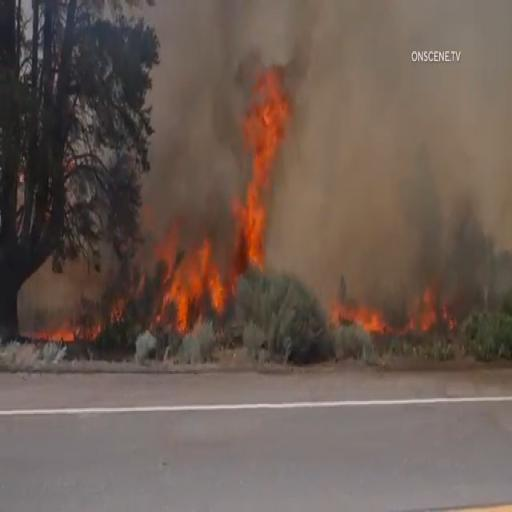fire: (226, 50, 296, 270), (137, 209, 233, 347), (312, 275, 462, 358), (24, 316, 102, 366)
smoke: (307, 2, 403, 268), (161, 0, 221, 194)
